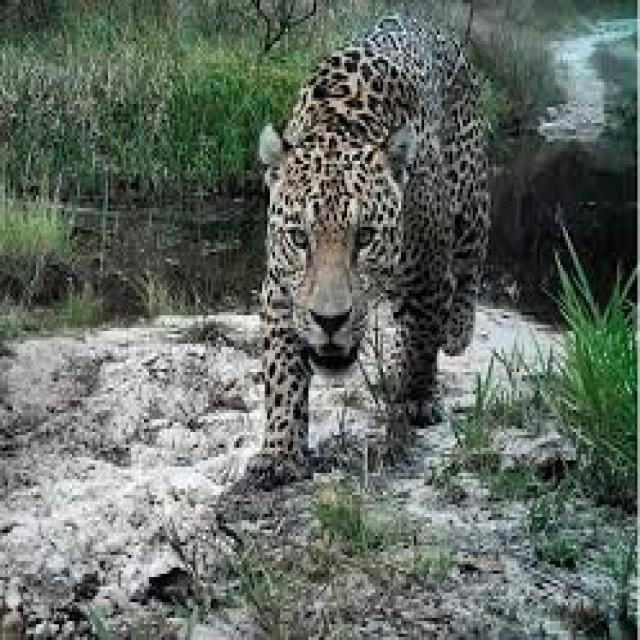Jaguar: (252, 16, 483, 473)
